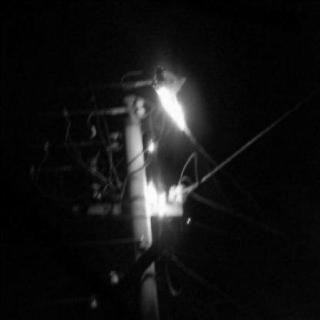Fire: (145, 72, 191, 136)
